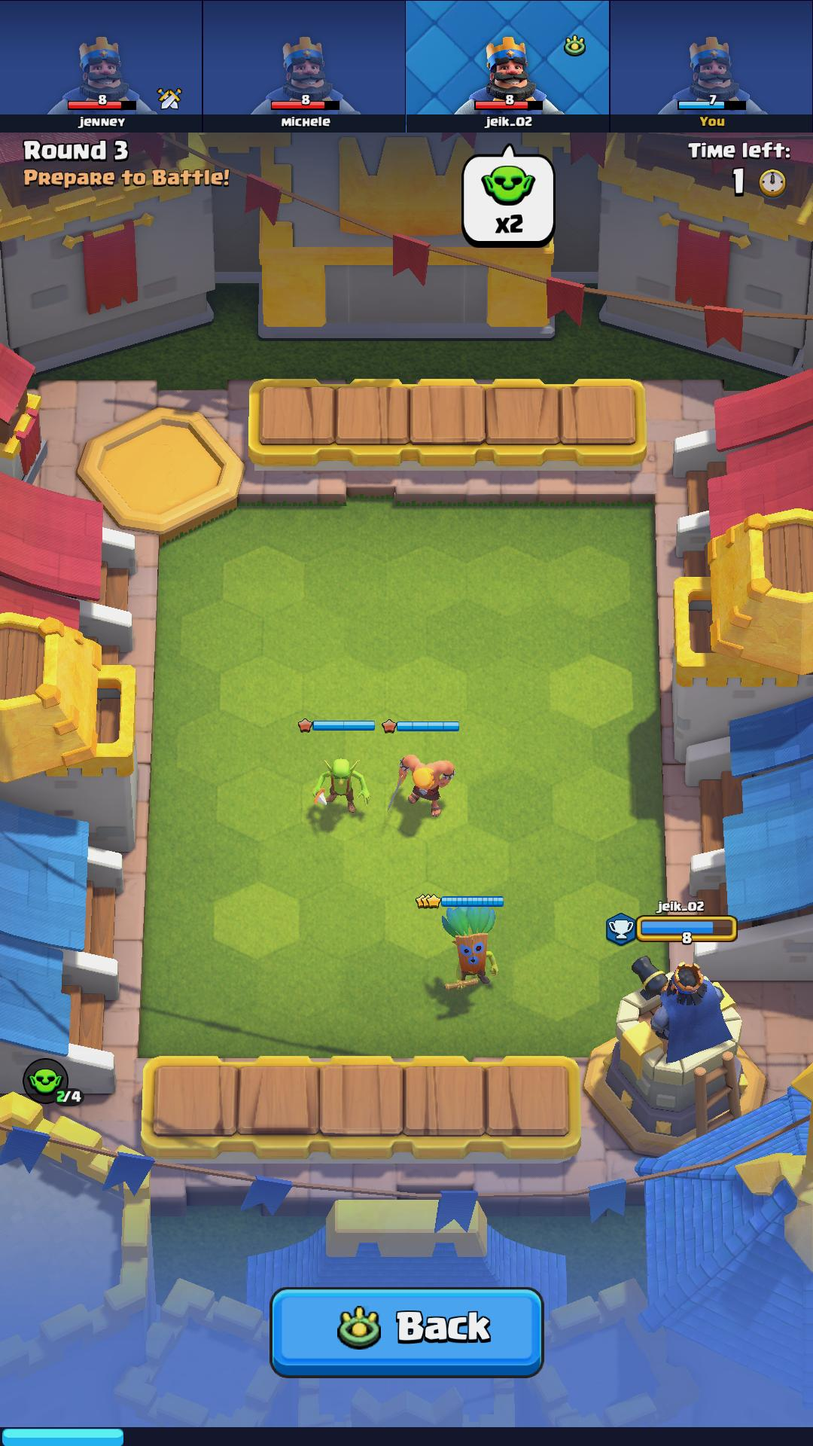barbarian: (386, 744, 468, 821)
dart: (437, 902, 513, 990)
goblin: (307, 749, 380, 823)
